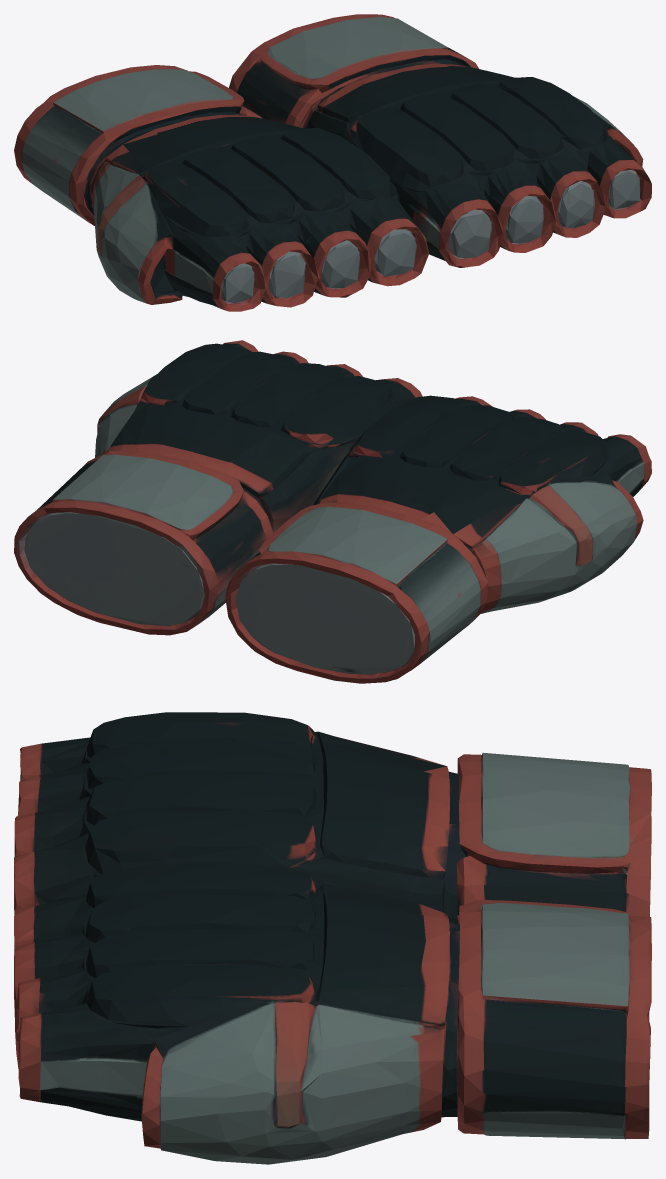
The model's file is mma_gloves_pair.glb.
The picture shows the model from 3 angles, top to bottom: view 1: azimuth 30°, elevation 25°; view 2: azimuth 150°, elevation 25°; view 3: azimuth 270°, elevation 25°; orthographic projection. The views are drawn at different scales.
Parts seen in each view (by area): view 1: mma_gloves_pair; view 2: mma_gloves_pair; view 3: mma_gloves_pair.
Part boxes in pixels (x1,y1,x2,y2): mma_gloves_pair: (14,14,651,311); mma_gloves_pair: (14,340,651,683); mma_gloves_pair: (14,712,651,1164).
Bounding box in the file's own units: 0.3 × 0.0765 × 0.2293.
Materials: 1 (1 with a texture image).
